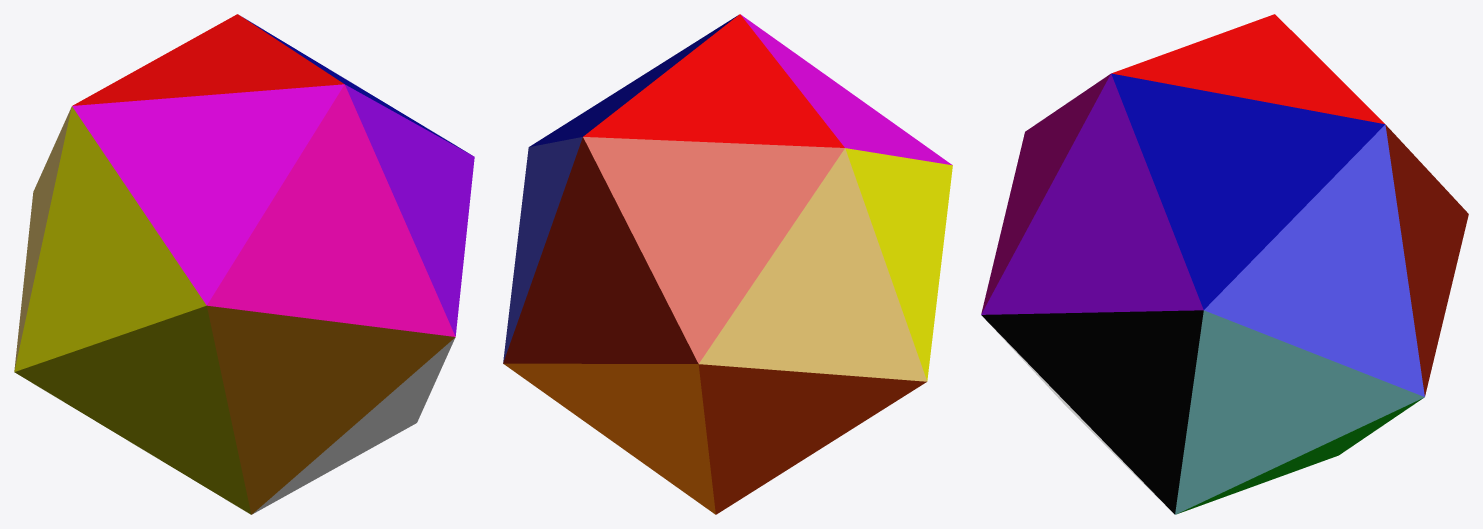
The model's file is Crystal_Static.fbx.
3 views of the same model, side by side, from view 1: azimuth 30°, elevation 25°; view 2: azimuth 150°, elevation 25°; view 3: azimuth 270°, elevation 25° (orthographic). The views are drawn at different scales.
Visible parts, largest first — view 1: Icosphere.028; view 2: Icosphere.028; view 3: Icosphere.028.
Part boxes in pixels (x1,y1,x2,y2): Icosphere.028: (14,14,474,514); Icosphere.028: (503,14,952,514); Icosphere.028: (981,14,1468,514).
Size of the model in its own units: 184 by 177 by 193.
